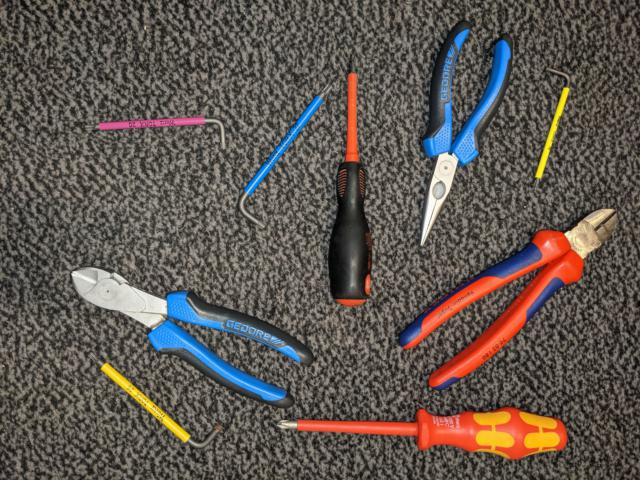Inbusschlüssel: (83, 348, 232, 456), (235, 80, 335, 232), (526, 63, 578, 196), (78, 115, 229, 154)
Schraubendreher: (271, 403, 573, 466), (324, 48, 378, 310)
Seitenschneider: (393, 206, 624, 396), (68, 264, 317, 412)
Zange: (416, 18, 517, 255)
